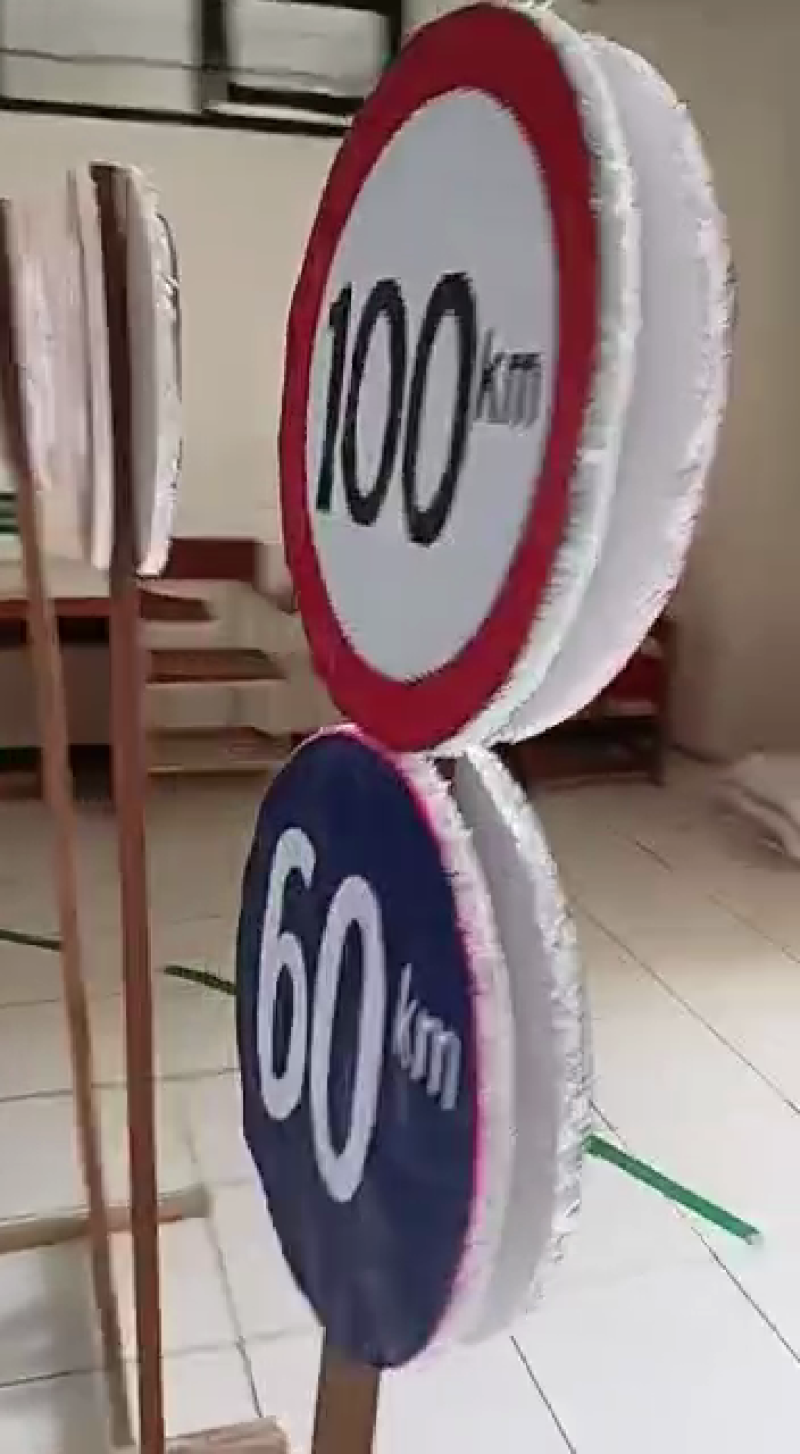batas maksimal 100kmperjam minimal 60kmperjam: (229, 1, 634, 1373)
